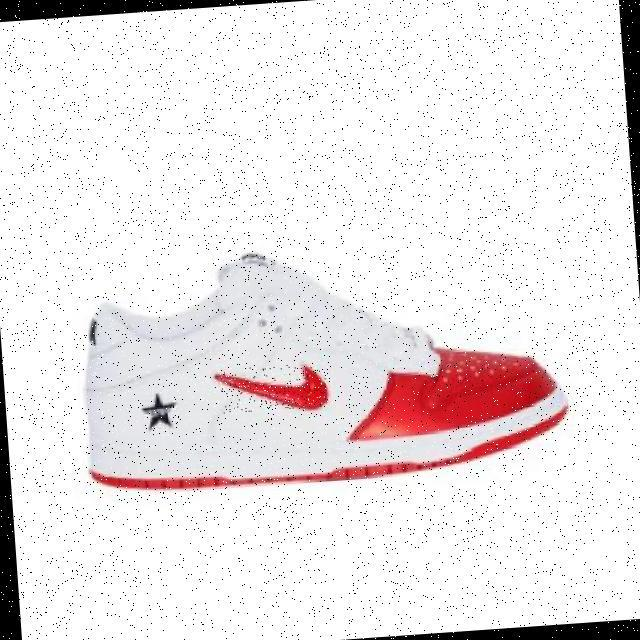Nike: (212, 362, 329, 414)
